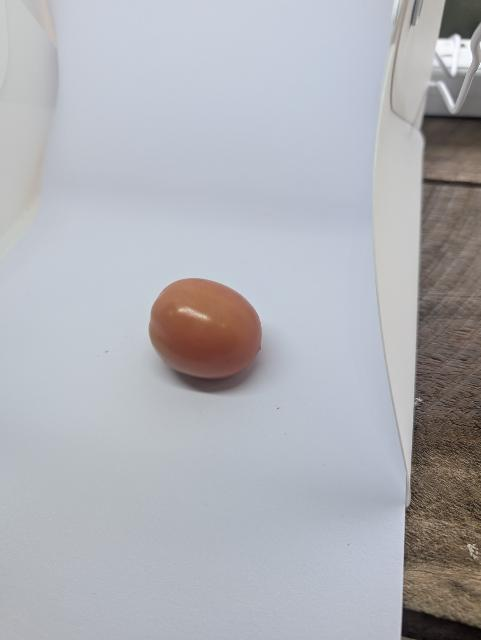red: (143, 267, 274, 386)
